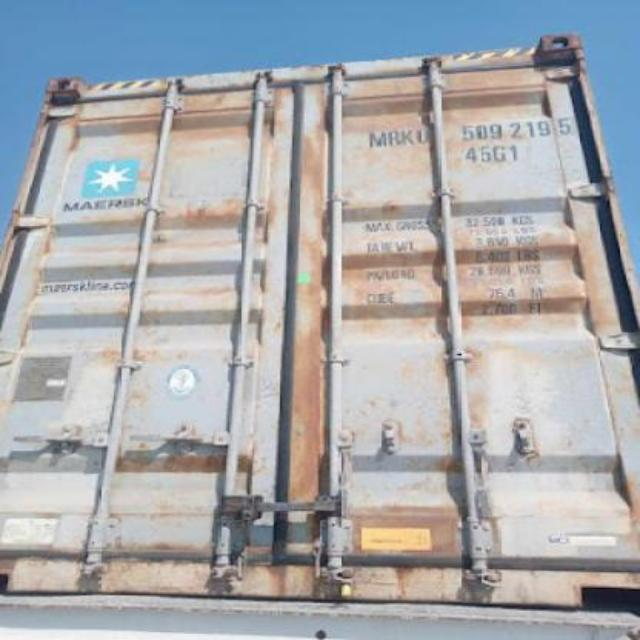0: (476, 117, 488, 143)
1: (522, 112, 536, 142)
2: (508, 110, 522, 140)
5: (458, 119, 476, 143), (556, 113, 574, 137)
9: (536, 112, 552, 142), (488, 115, 502, 139)
K: (398, 123, 412, 147)
M: (364, 126, 388, 150)
R: (386, 128, 399, 148)
U: (412, 124, 430, 146)
